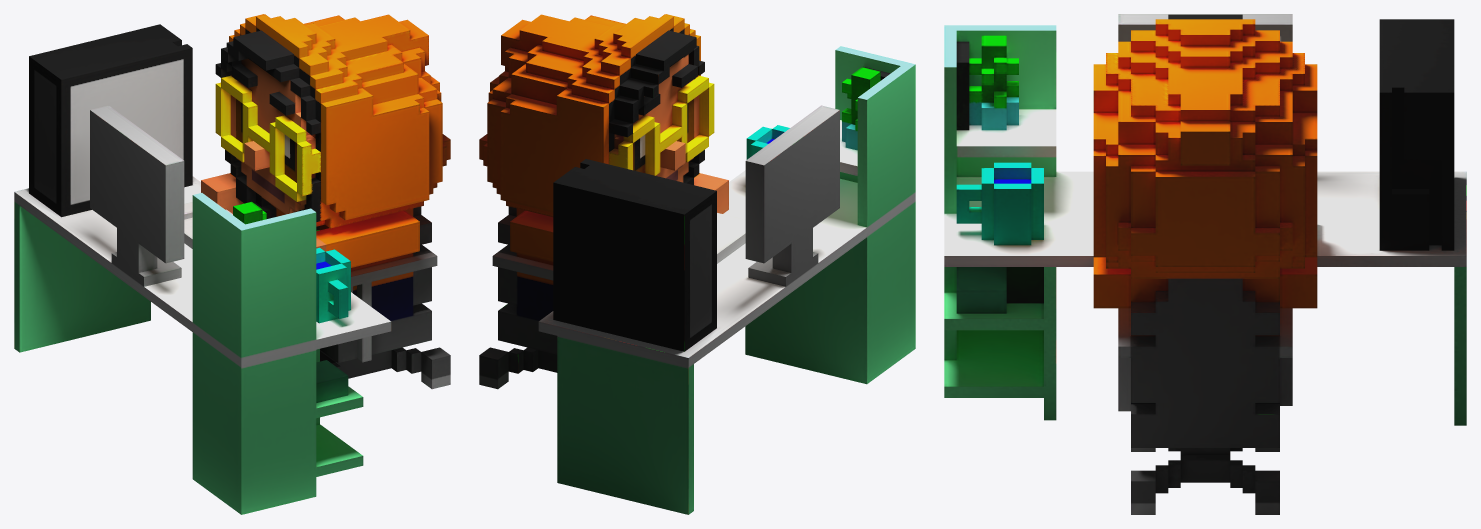
Rendered from MEVoxelArt.glb.
3 renders of one model, left to right at view 1: azimuth 30°, elevation 25°; view 2: azimuth 150°, elevation 25°; view 3: azimuth 270°, elevation 25°, orthographic. The views are drawn at different scales.
Parts seen in each view (by area): view 1: mini me desk final; view 2: mini me desk final; view 3: mini me desk final.
Part boxes in pixels (bbox=[...]): mini me desk final: bbox=[14, 14, 450, 514]; mini me desk final: bbox=[479, 14, 915, 514]; mini me desk final: bbox=[944, 14, 1466, 514].
Size of what is drawn, in the model's own units: 3.1 by 3.7 by 4.2.
1 material, 1 textured.
